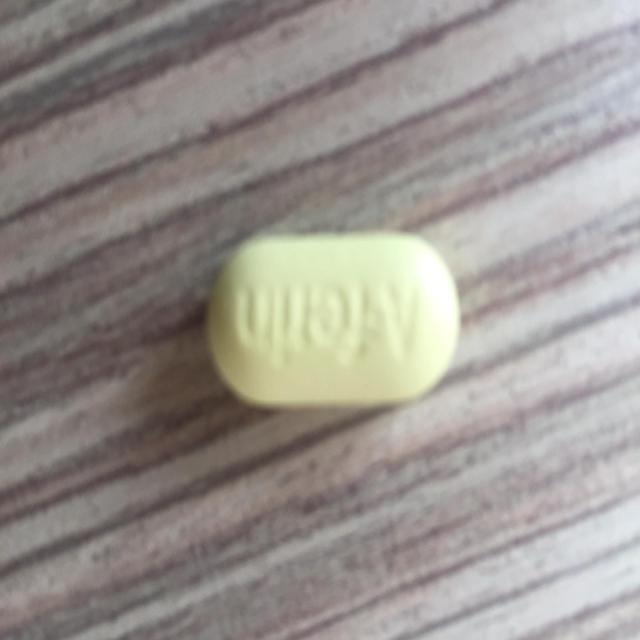pills: (194, 212, 466, 418)
